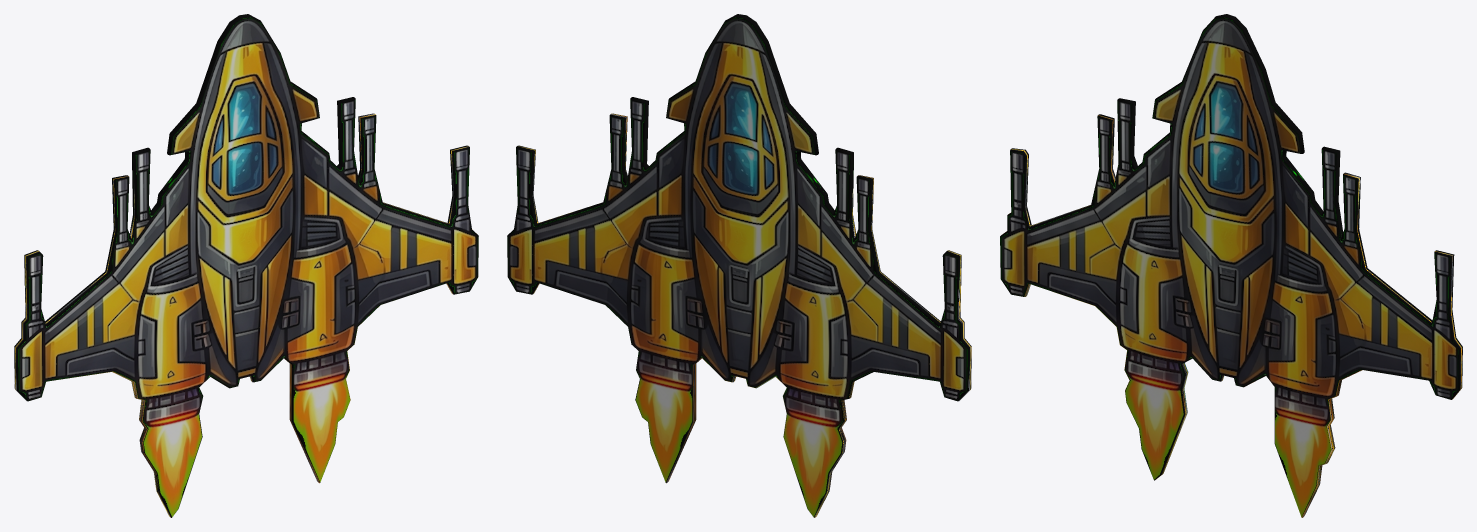
The model's file is Ship5.glb.
The picture shows the model from 3 angles, left to right: view 1: azimuth 30°, elevation 25°; view 2: azimuth 150°, elevation 25°; view 3: azimuth 330°, elevation 25°; orthographic projection.
Size of the model in its own units: 0.7336 by 0.736 by 0.01.
2 materials, 2 textured.
